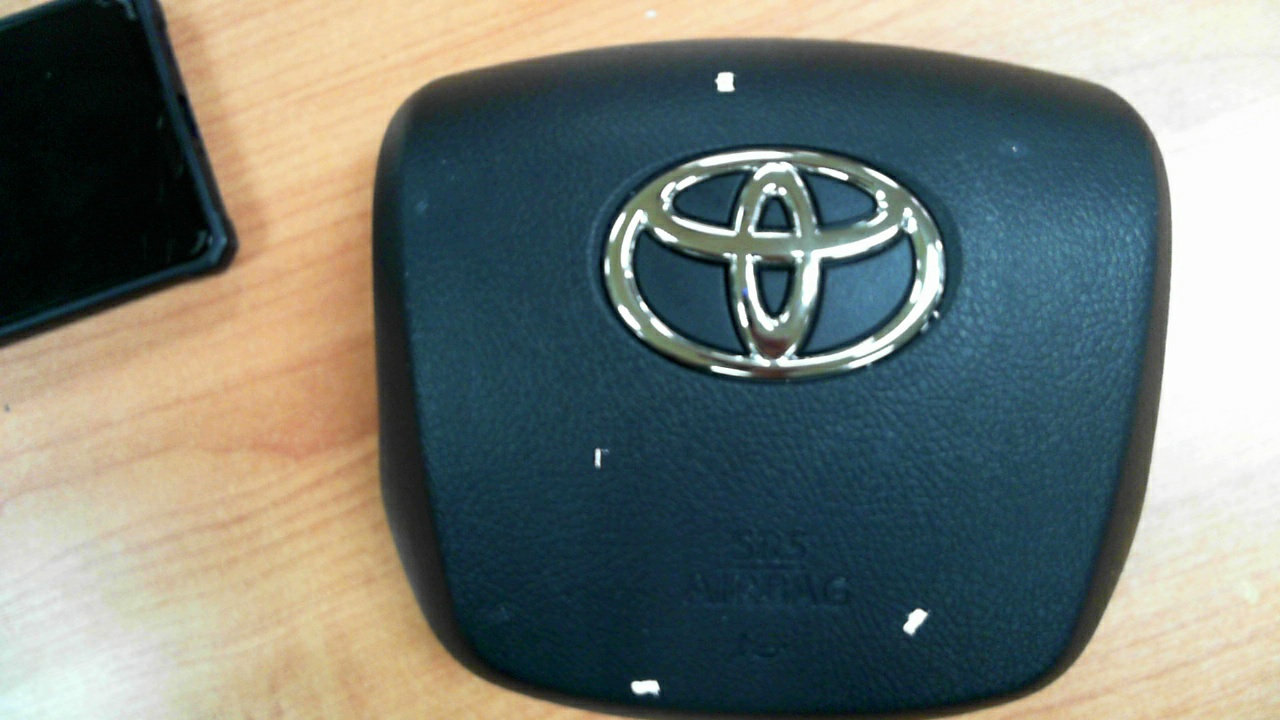Airbag: (371, 33, 1173, 720)
Mark: (902, 608, 928, 636), (630, 679, 663, 696), (715, 72, 736, 92), (594, 448, 609, 468), (1012, 146, 1016, 151)
